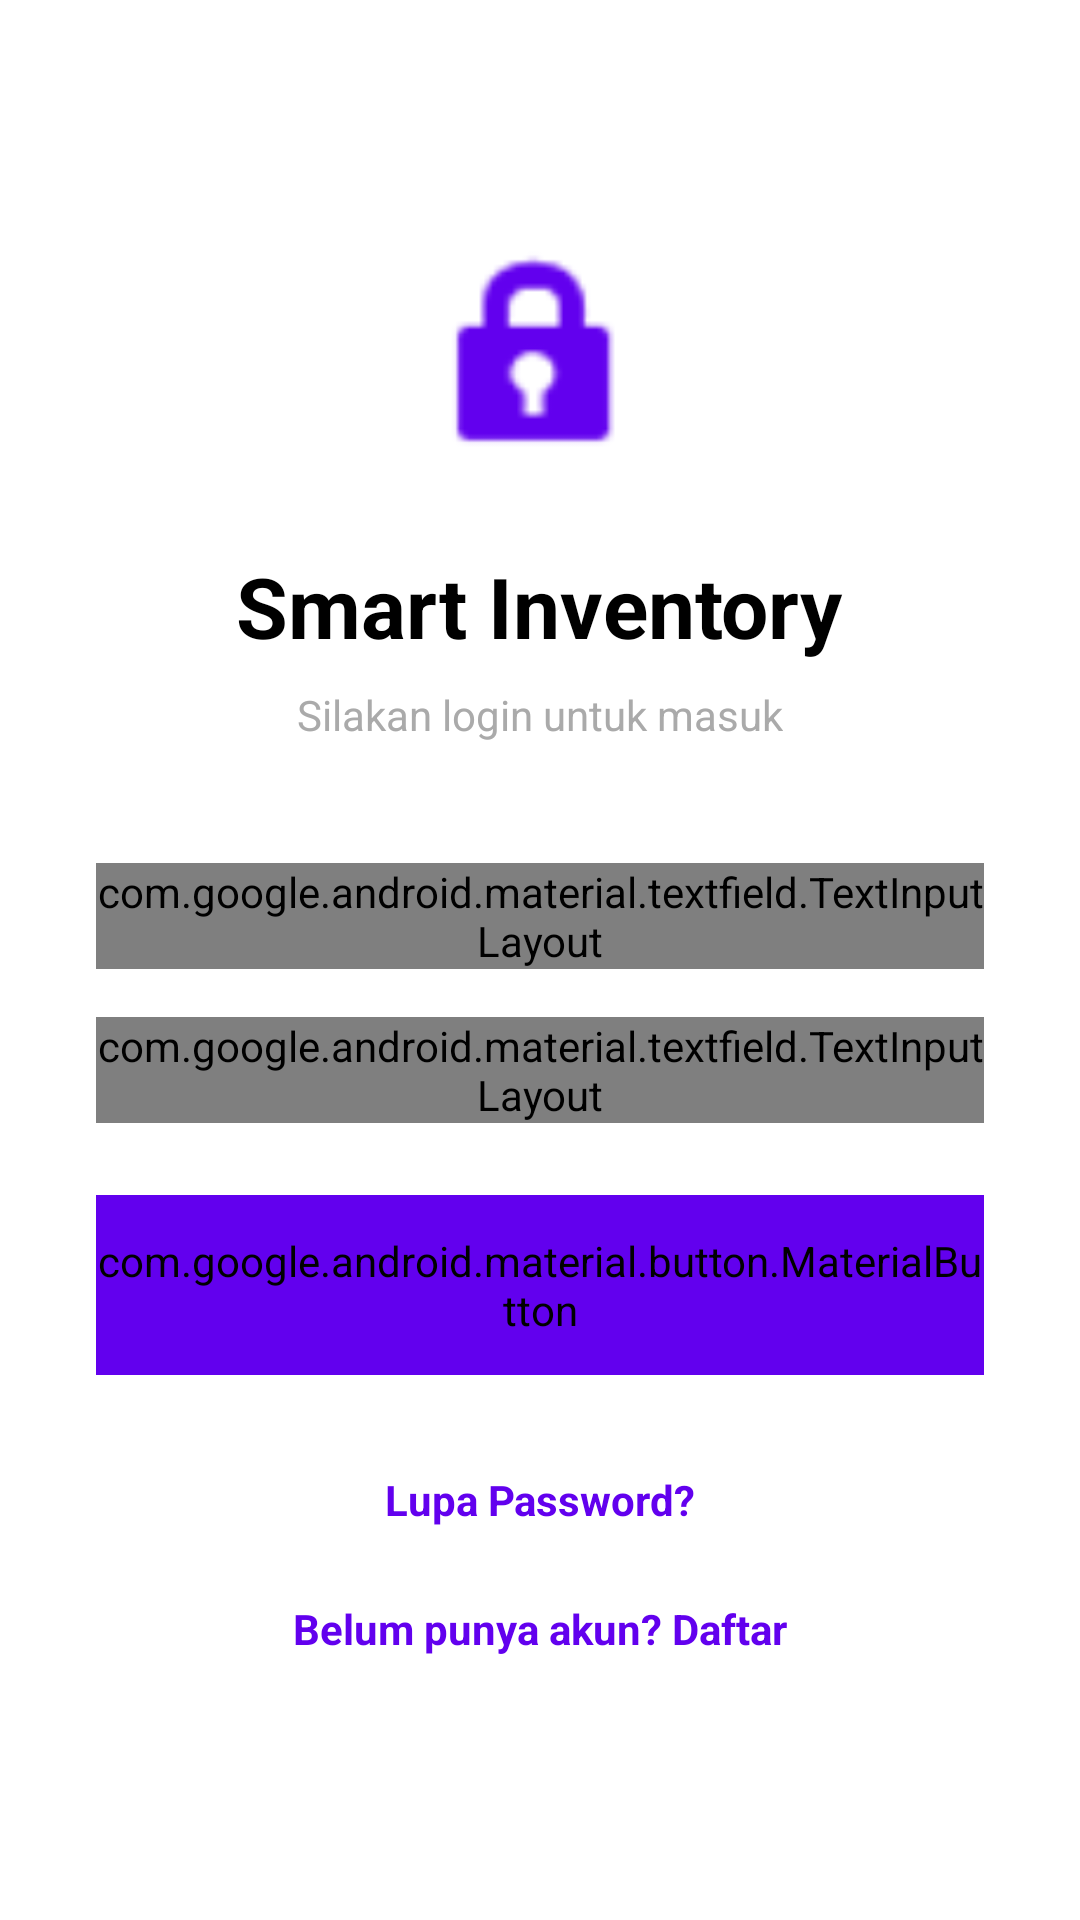

Icons on this 1080 x 1920 Android screen, each with the point to tap as (x=x, y=y):
lock idle: (x=535, y=349)
